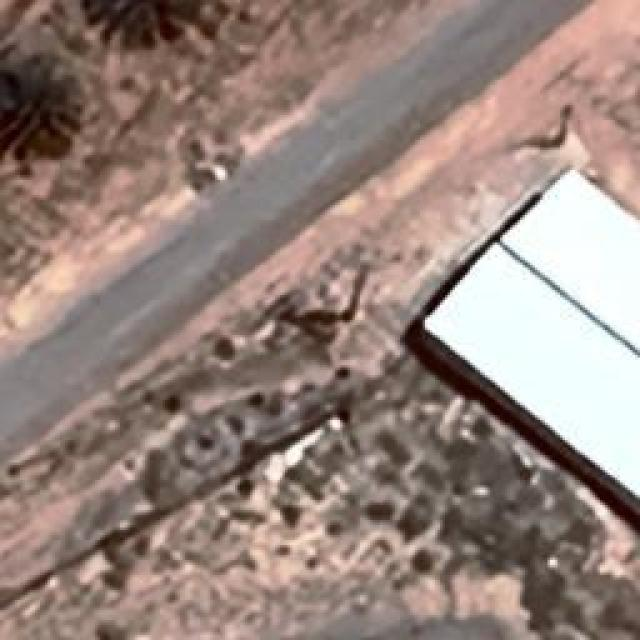PalmTree: (0, 60, 80, 155), (80, 0, 204, 50)
